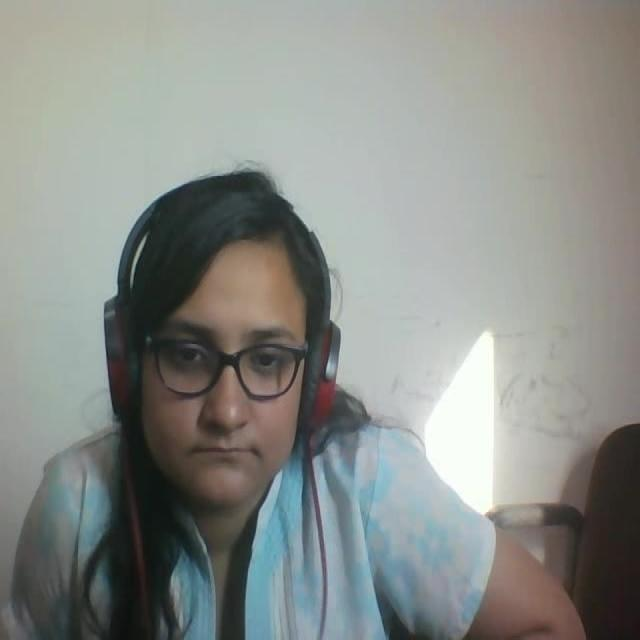Bored: (101, 147, 346, 538)
